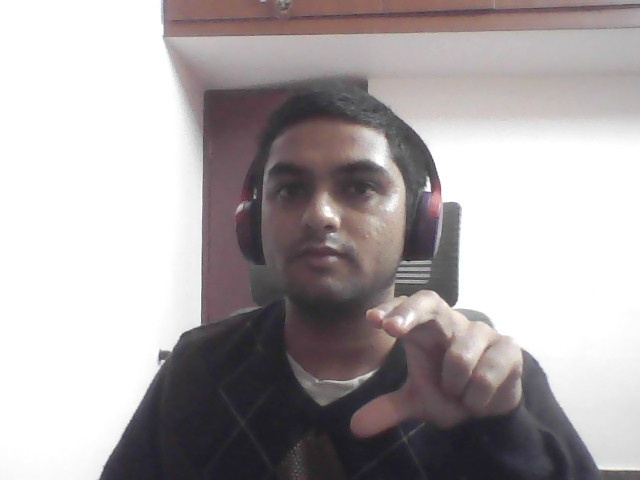NO: (338, 276, 544, 455)
